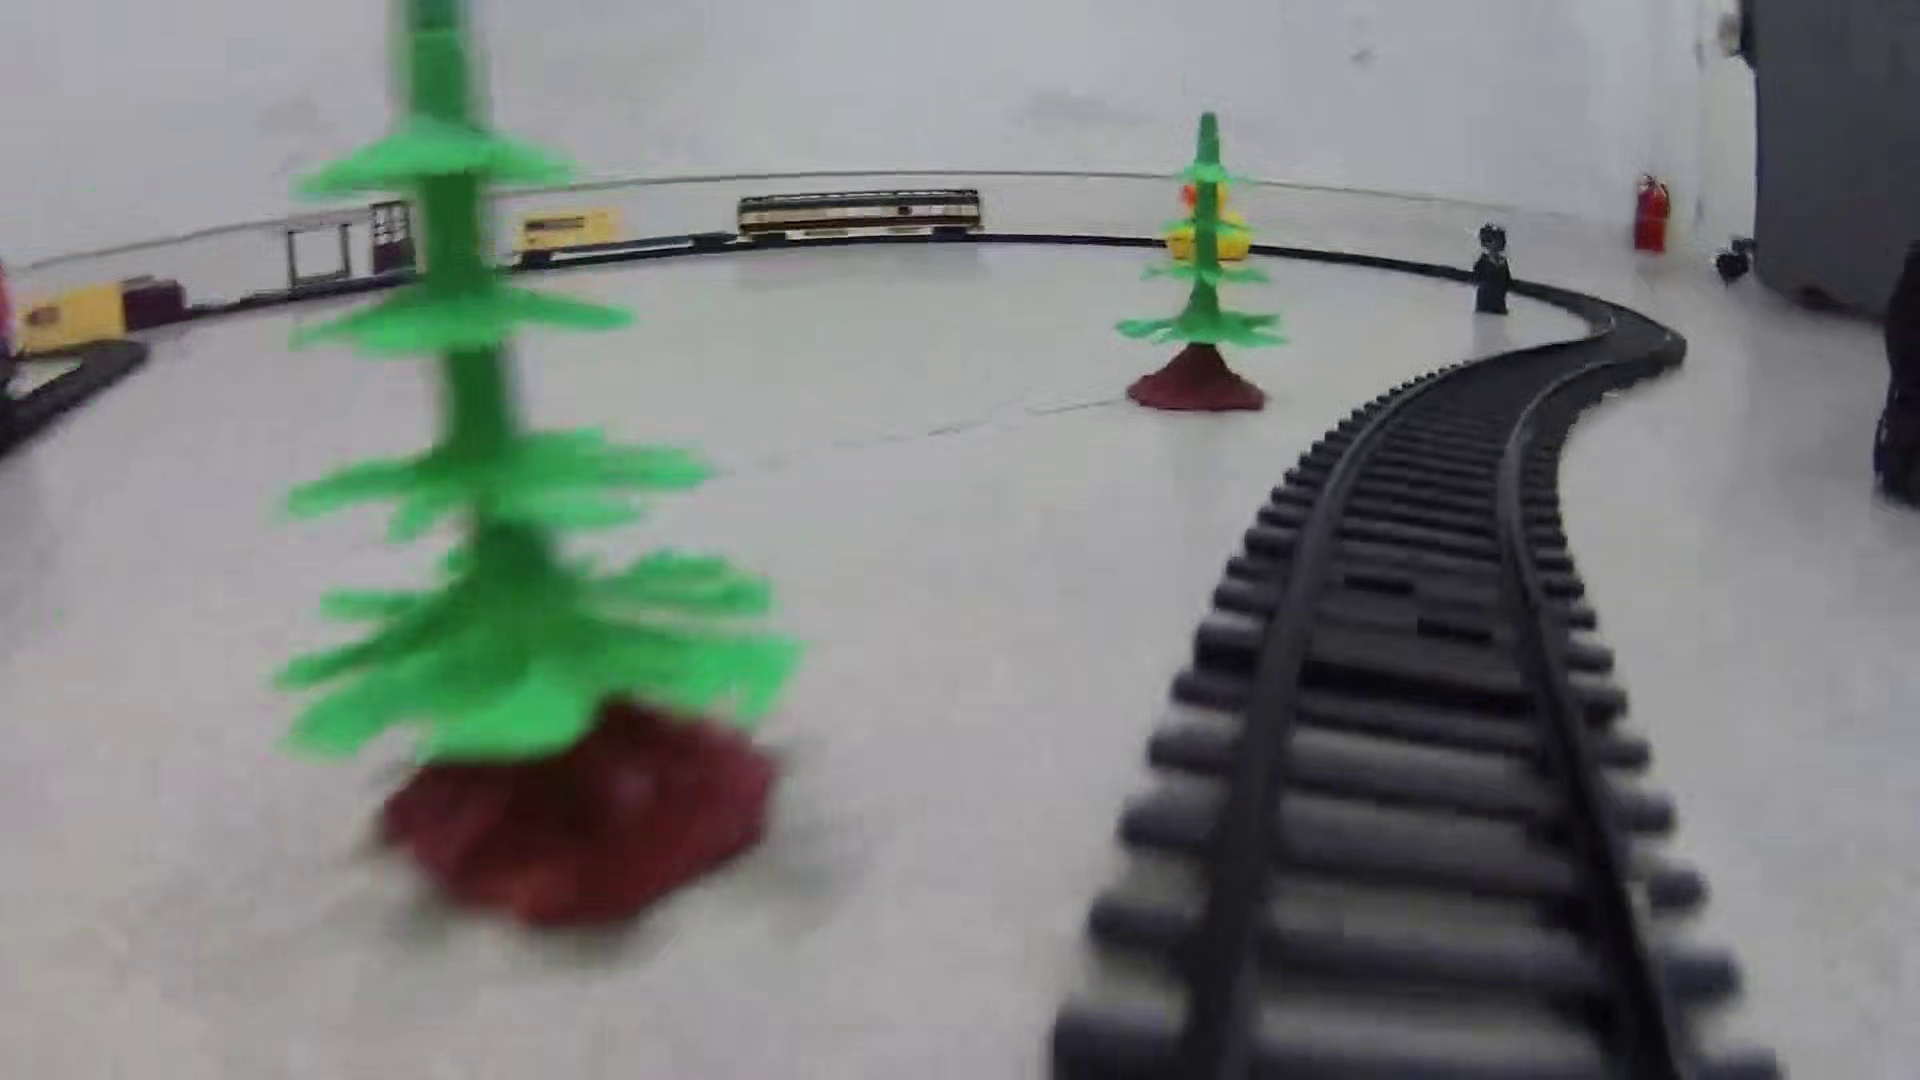people: (1465, 224, 1514, 316)
tree: (262, 1, 804, 941), (1112, 110, 1283, 416)
